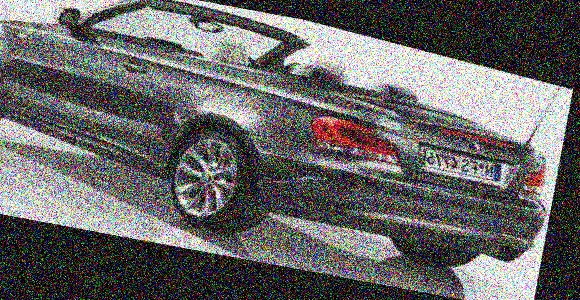car: (0, 0, 577, 300)
